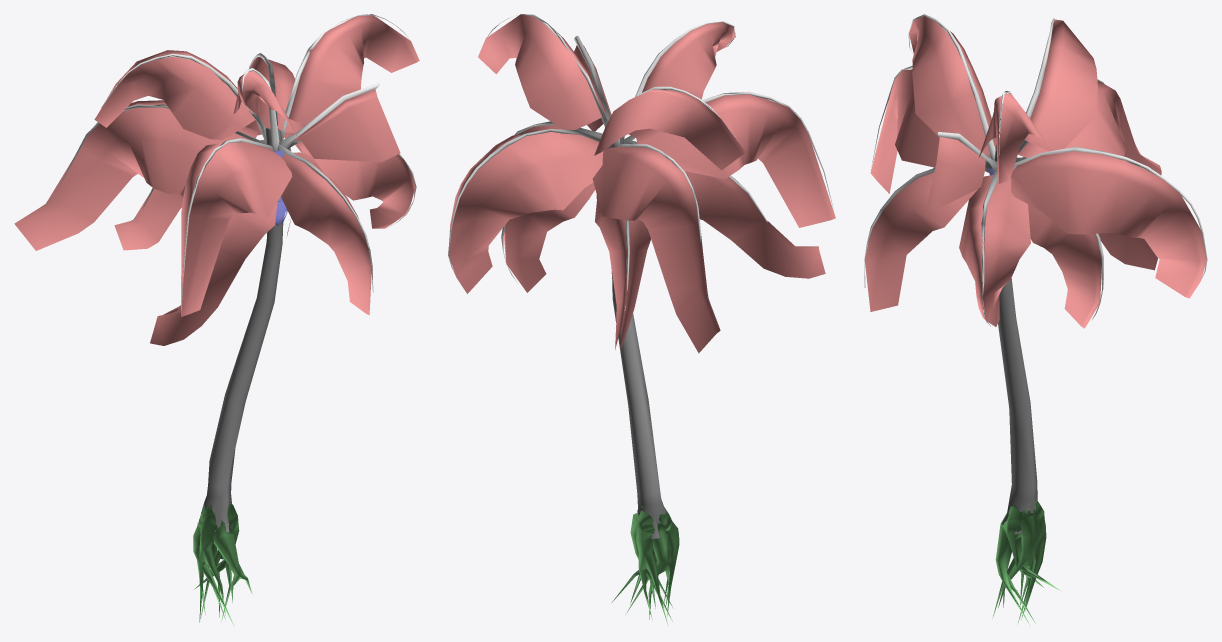
Rendered from SM_PalmTreeB.gltf.
The picture shows the model from 3 angles, left to right: view 1: azimuth 30°, elevation 25°; view 2: azimuth 150°, elevation 25°; view 3: azimuth 270°, elevation 25°; orthographic projection. The views are drawn at different scales.
Parts seen in each view (by area): view 1: SM_PalmTreeB; view 2: SM_PalmTreeB; view 3: SM_PalmTreeB.
Part boxes in pixels (x1=…): SM_PalmTreeB: x1=14, y1=14, x2=419, y2=626; SM_PalmTreeB: x1=448, y1=14, x2=835, y2=625; SM_PalmTreeB: x1=864, y1=14, x2=1207, y2=626.
Bounding box in the file's own units: 5.44 × 9.33 × 4.86.
